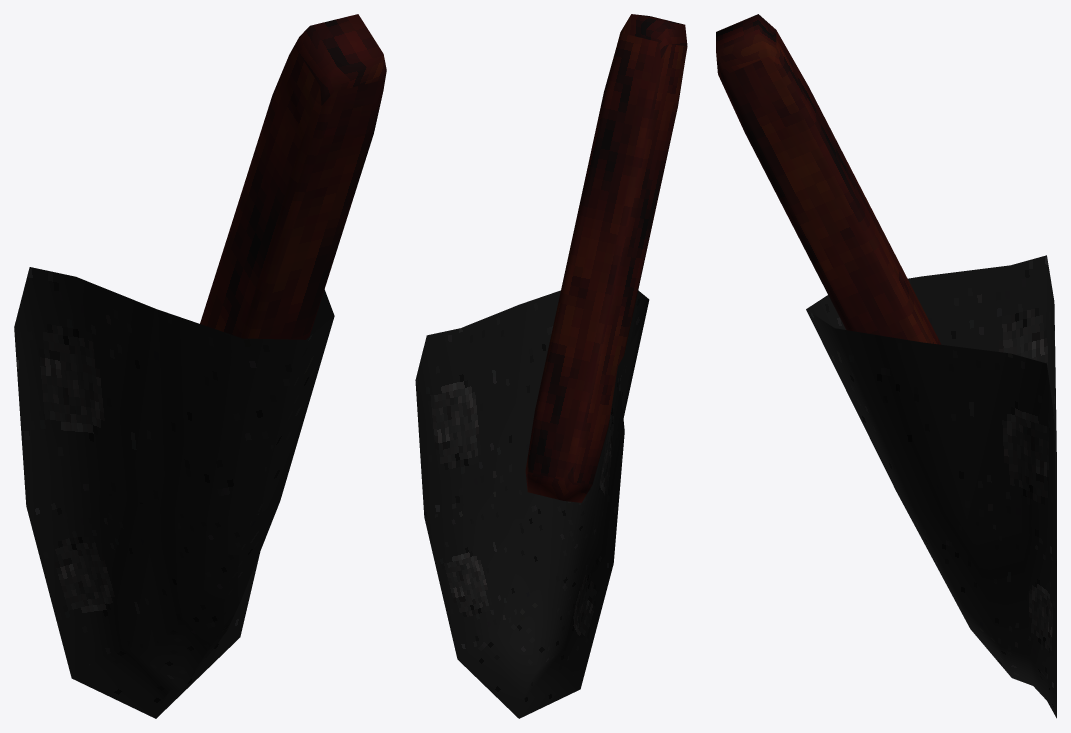
The model's file is Torch.fbx.
The picture shows the model from 3 angles, left to right: view 1: azimuth 30°, elevation 25°; view 2: azimuth 150°, elevation 25°; view 3: azimuth 270°, elevation 25°; orthographic projection. The views are drawn at different scales.
Visible parts, largest first — view 1: Torch; view 2: Torch; view 3: Torch.
Boxes of the visible parts, x1=… form: Torch: x1=14, y1=14, x2=386, y2=718; Torch: x1=415, y1=14, x2=687, y2=718; Torch: x1=716, y1=14, x2=1056, y2=718.
Bounding box in the file's own units: 0.5525 × 1.53 × 0.679.
